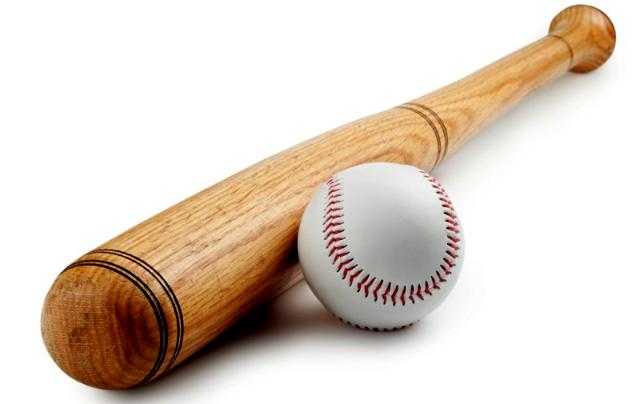baseball bat: (47, 5, 617, 392)
